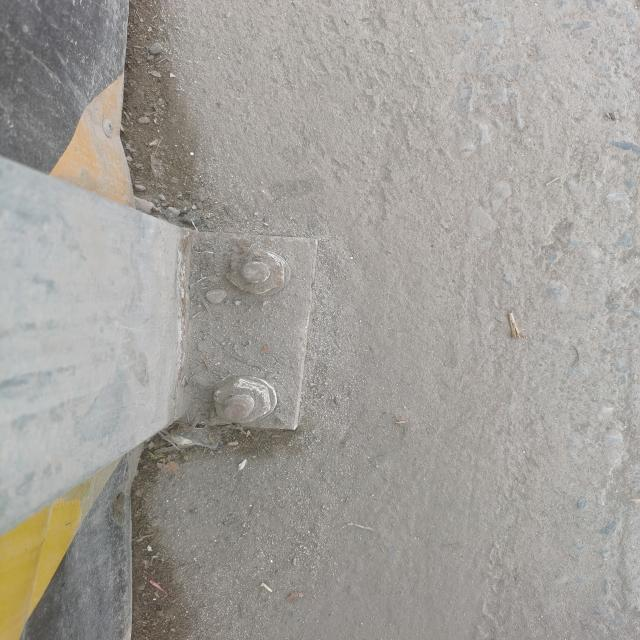bolt nut: (209, 377, 275, 425), (225, 246, 288, 296)
